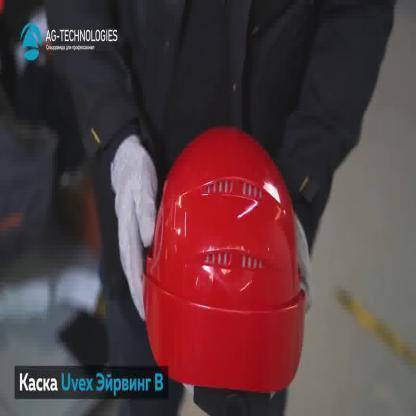gloves: (113, 138, 158, 325), (290, 204, 321, 320)
helmet: (140, 123, 304, 394)
